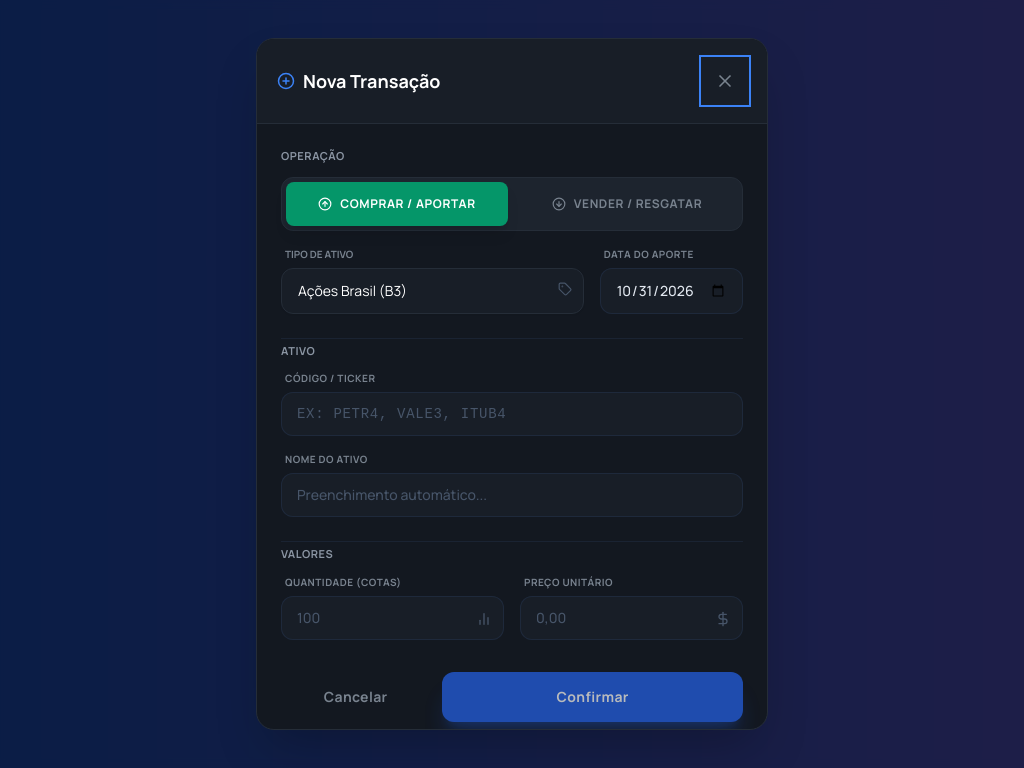
Scenario: modo venda (SELL) › exibe aviso quando não há ativos do tipo selecionado
The width and height of the screenshot is (1024, 768).
Click the button "Vender / Resgatar".
click(627, 204)  # box [516,182,738,226]
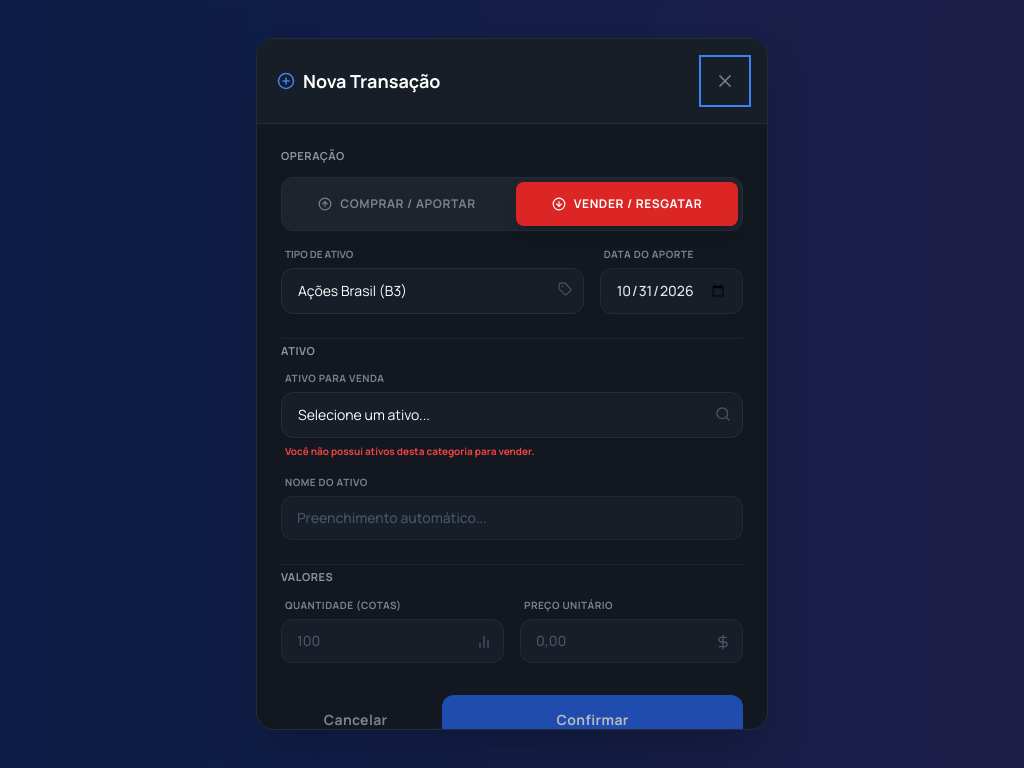
Check: the text "Você não possui ativos desta categoria para vender." is shown, box [285,444,534,458]
